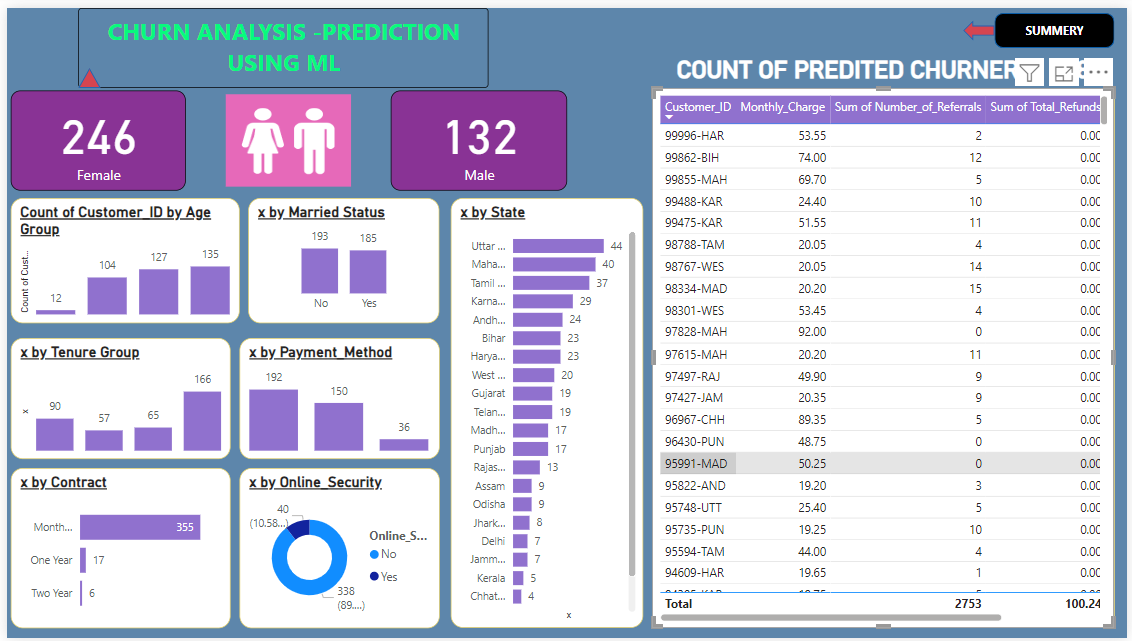

The dashboard page shown, as its layout file describes it:
{"tool":"powerbi","page":{"name":"Churn  Prediction","canvas":[1280,720],"ordinal":2},"visuals":[{"type":"tableEx","fields":{"Values":["Prediction_Data.Customer_ID","Prediction_Data.Monthly_Charge","Sum(Prediction_Data.Number_of_Referrals)","Sum(Prediction_Data.Total_Refunds)","Sum(Prediction_Data.Total_Revenue)"]},"box":[737.1,91.4,528.6,617.1],"z":0},{"type":"card","fields":{"Values":["tbl_Measures.Title Predicted Churner"]},"box":[737.1,45.7,528.6,45.7],"z":1000},{"type":"card","fields":{"Values":["tbl_Measures.Count Prediction Churner"]},"box":[4.3,94.3,200,114.3],"z":2000},{"type":"card","fields":{"Values":["tbl_Measures.Count Prediction Churner"]},"box":[438.6,94.3,201.4,114.3],"z":3000},{"type":"clusteredColumnChart","fields":{"Category":["mapping_AgeGrp.Age Group"],"Y":["CountNonNull(Prediction_Data.Customer_ID)"]},"box":[4.3,217.1,261.4,142.9],"z":4000},{"type":"clusteredColumnChart","fields":{"Y":["CountNonNull(Prediction_Data.Customer_ID)"],"Category":["Prediction_Data.Married"]},"box":[275.7,217.1,218.6,142.9],"z":5000},{"type":"clusteredColumnChart","fields":{"Y":["CountNonNull(Prediction_Data.Customer_ID)"],"Category":["mapping_TenureGrp.Tenure Group"]},"box":[4.3,377.1,251.4,138.6],"z":6000},{"type":"clusteredColumnChart","fields":{"Y":["CountNonNull(Prediction_Data.Customer_ID)"],"Category":["Prediction_Data.Payment_Method"]},"box":[265.7,377.1,228.6,138.6],"z":7000},{"type":"clusteredBarChart","fields":{"Category":["Prediction_Data.Contract"],"Y":["CountNonNull(Prediction_Data.Customer_ID)"]},"box":[4.3,525.7,251.4,182.9],"z":8000},{"type":"clusteredBarChart","fields":{"Y":["CountNonNull(Prediction_Data.Customer_ID)"],"Category":["Prediction_Data.State"]},"box":[507.1,217.1,220,491.4],"z":9000},{"type":"textbox","box":[81.4,0,468.6,91.4],"z":10000},{"type":"shape","box":[81.4,68.6,25.7,22.9],"z":11000},{"type":"image","box":[250,98.6,142.9,105.7],"z":12000},{"type":"donutChart","fields":{"Category":["Prediction_Data.Online_Security"],"Y":["CountNonNull(Prediction_Data.Customer_ID)"]},"box":[265.7,525.7,228.6,182.9],"z":12001},{"type":"shape","box":[1128.6,5.7,137.1,40],"z":12002},{"type":"shape","box":[1092.9,14.3,35.7,22.9],"z":12003}]}

Visuals, with their boxes in screenshot pixels (x1, y1, x2, y2), scaled from the page's 1280x720 canvas onto the 1132x641 screenshot:
tableEx - Prediction_Data.Customer_ID x Prediction_Data.Monthly_Charge: rect(652, 81, 1119, 631)
card - tbl_Measures.Title Predicted Churner: rect(652, 41, 1119, 81)
card - tbl_Measures.Count Prediction Churner: rect(4, 84, 181, 186)
card - tbl_Measures.Count Prediction Churner: rect(388, 84, 566, 186)
clusteredColumnChart - mapping_AgeGrp.Age Group x CountNonNull(Prediction_Data.Customer_ID): rect(4, 193, 235, 320)
clusteredColumnChart - CountNonNull(Prediction_Data.Customer_ID) x Prediction_Data.Married: rect(244, 193, 437, 320)
clusteredColumnChart - CountNonNull(Prediction_Data.Customer_ID) x mapping_TenureGrp.Tenure Group: rect(4, 336, 226, 459)
clusteredColumnChart - CountNonNull(Prediction_Data.Customer_ID) x Prediction_Data.Payment_Method: rect(235, 336, 437, 459)
clusteredBarChart - Prediction_Data.Contract x CountNonNull(Prediction_Data.Customer_ID): rect(4, 468, 226, 631)
clusteredBarChart - CountNonNull(Prediction_Data.Customer_ID) x Prediction_Data.State: rect(448, 193, 643, 631)
textbox: rect(72, 0, 486, 81)
shape: rect(72, 61, 95, 81)
image: rect(221, 88, 347, 182)
donutChart - Prediction_Data.Online_Security x CountNonNull(Prediction_Data.Customer_ID): rect(235, 468, 437, 631)
shape: rect(998, 5, 1119, 41)
shape: rect(967, 13, 998, 33)
